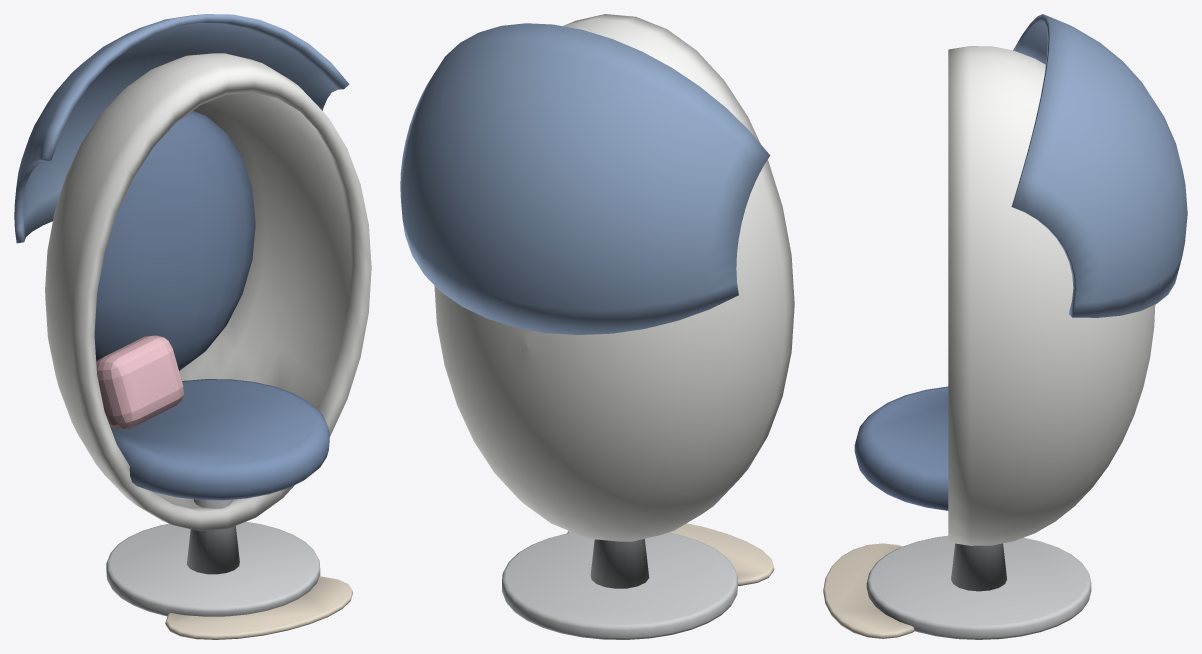
Rendered from napPod.glb.
3 views of the same model, side by side, from view 1: azimuth 30°, elevation 25°; view 2: azimuth 150°, elevation 25°; view 3: azimuth 270°, elevation 25° (orthographic). The views are drawn at different scales.
Visible parts, largest first — view 1: body, hood; view 2: body, hood; view 3: body, hood.
Part boxes in pixels (x1,y1,x2,y2): body: [45, 53, 371, 639]; hood: [14, 14, 349, 243]; body: [434, 14, 794, 639]; hood: [400, 23, 770, 334]; body: [823, 46, 1155, 639]; hood: [1011, 14, 1187, 317].
Size of the model in its own units: 0.9183 by 1.54 by 0.9085.
